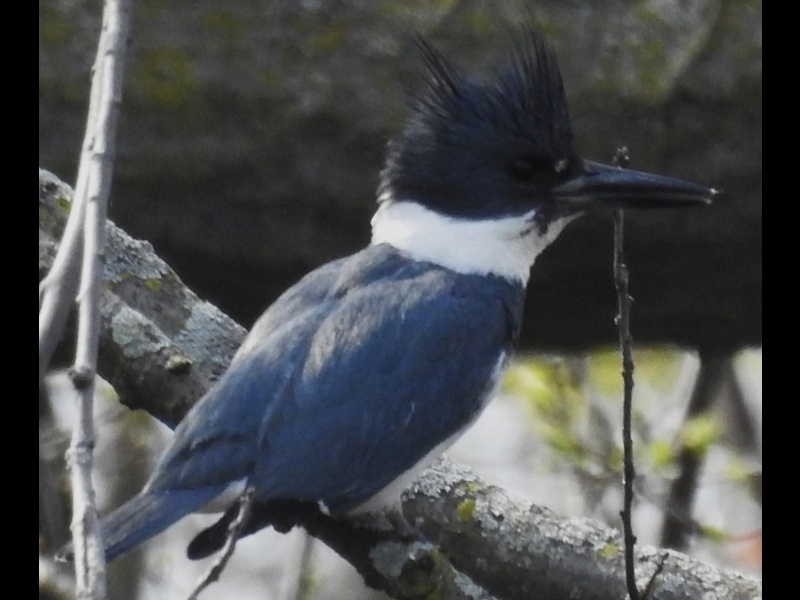kingfisher: (57, 23, 719, 576)
